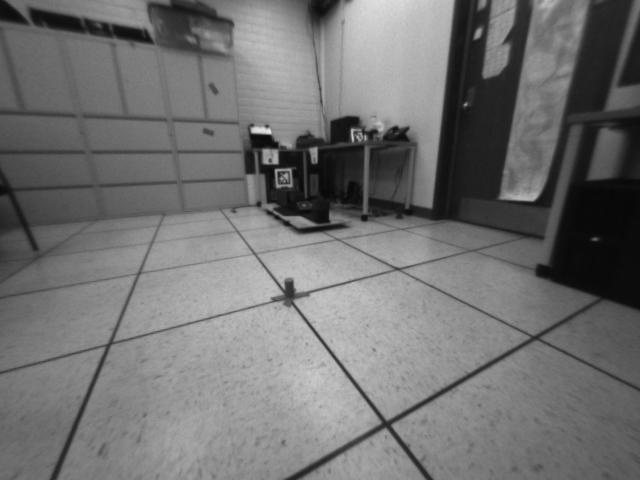X: (270, 277, 312, 308)
